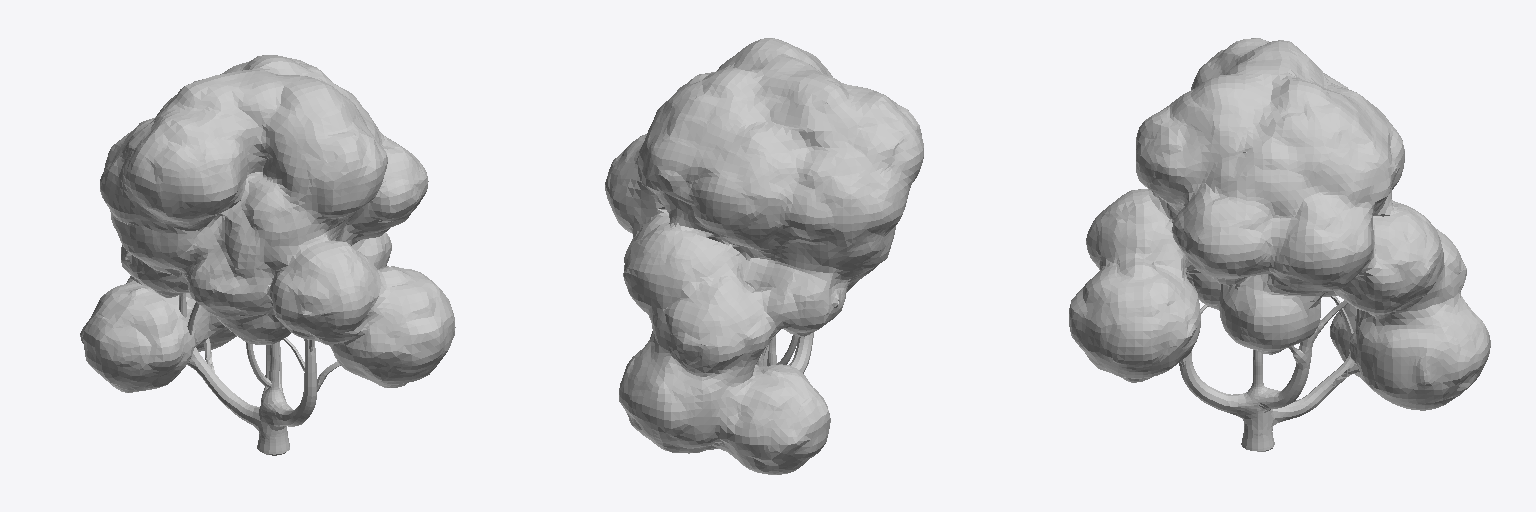
Rendered from oak.obj.
3 views of the same model, side by side, from view 1: azimuth 30°, elevation 25°; view 2: azimuth 150°, elevation 25°; view 3: azimuth 270°, elevation 25° (orthographic).
Parts seen in each view (by area): view 1: tree_tree_10445_Oak_tree_v1; view 2: tree_tree_10445_Oak_tree_v1; view 3: tree_tree_10445_Oak_tree_v1.
Part boxes in pixels (x1,y1,x2,y2): tree_tree_10445_Oak_tree_v1: (80, 55, 455, 455); tree_tree_10445_Oak_tree_v1: (605, 38, 923, 474); tree_tree_10445_Oak_tree_v1: (1069, 38, 1490, 451).
Size of the model in its own units: 92.73 by 119 by 122.